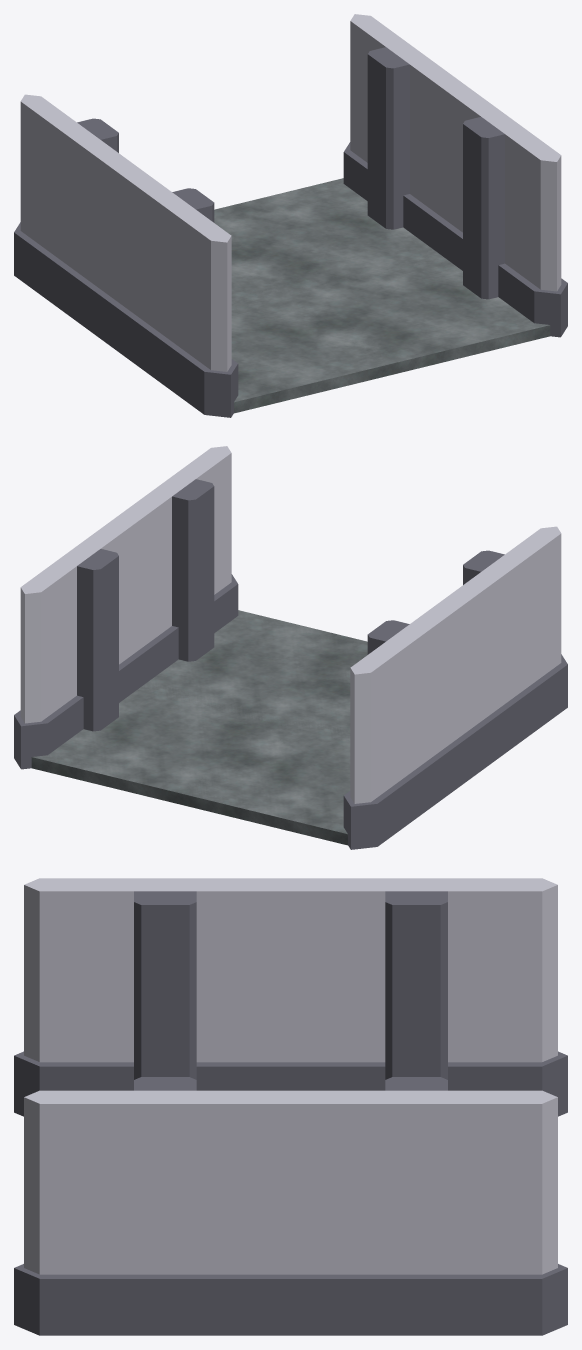
Rendered from hallway_01.fbx.
The picture shows the model from 3 angles, top to bottom: view 1: azimuth 30°, elevation 25°; view 2: azimuth 150°, elevation 25°; view 3: azimuth 270°, elevation 25°; orthographic projection. The views are drawn at different scales.
Visible parts, largest first — view 1: floor_01_11, wall_02_13, wall_02_15, wall_02_12, wall_02_14; view 2: floor_01_11, wall_02_12, wall_02_14, wall_02_13, wall_02_15; view 3: wall_02_14, wall_02_15, wall_02_12, wall_02_13.
Part boxes in pixels (bbox=[...]): floor_01_11: bbox=[214, 178, 550, 413]; wall_02_13: bbox=[109, 165, 238, 417]; wall_02_15: bbox=[439, 84, 567, 337]; wall_02_12: bbox=[14, 94, 135, 344]; wall_02_14: bbox=[343, 14, 465, 253]; floor_01_11: bbox=[31, 610, 367, 845]; wall_02_12: bbox=[343, 596, 472, 849]; wall_02_14: bbox=[14, 516, 142, 769]; wall_02_13: bbox=[446, 526, 567, 776]; wall_02_15: bbox=[116, 446, 238, 685]; wall_02_14: bbox=[276, 1077, 567, 1335]; wall_02_15: bbox=[14, 1077, 304, 1335]; wall_02_12: bbox=[276, 878, 567, 1116]; wall_02_13: bbox=[14, 878, 305, 1116].
Size of the model in its own units: 22.05 by 10 by 22.05.
